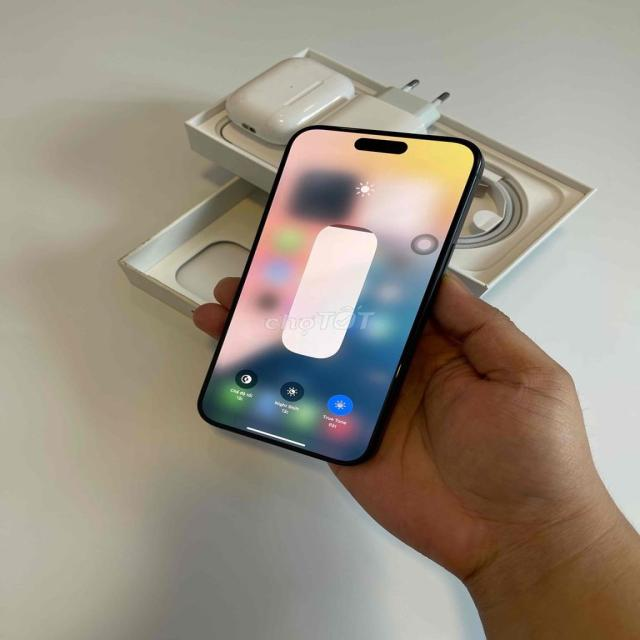gen_15: (193, 123, 482, 468)
